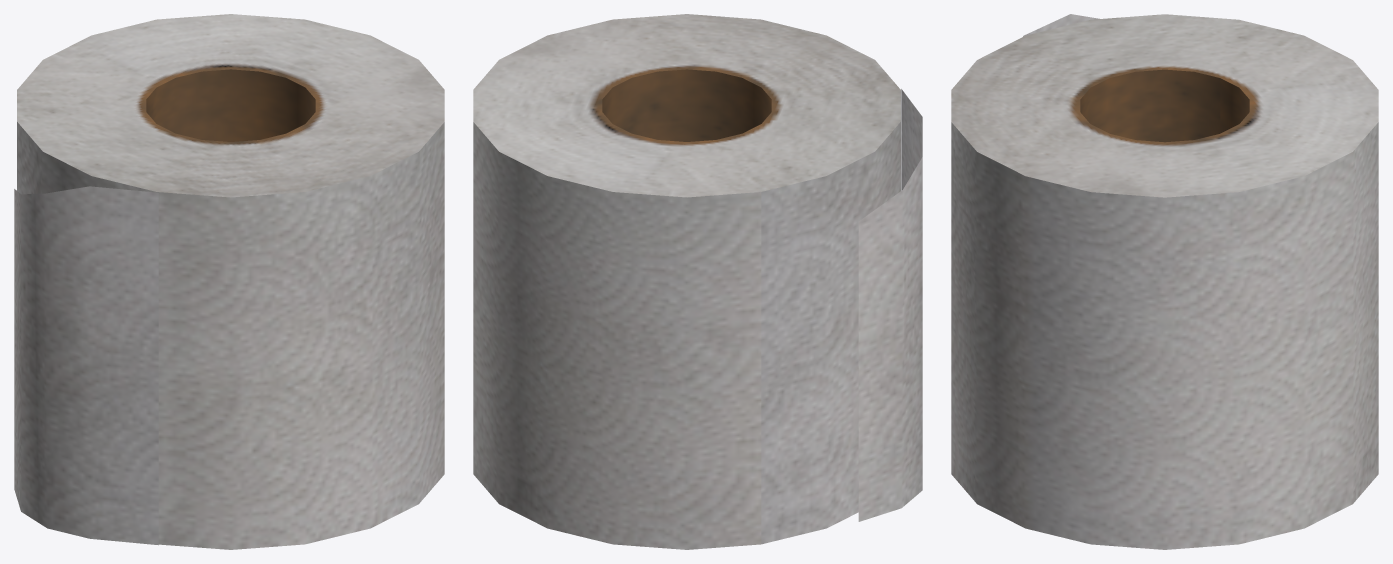
File: Toiletpaper.FBX
The picture shows the model from 3 angles, left to right: view 1: azimuth 30°, elevation 25°; view 2: azimuth 150°, elevation 25°; view 3: azimuth 270°, elevation 25°; orthographic projection.
Parts seen in each view (by area): view 1: Toiletpaper; view 2: Toiletpaper; view 3: Toiletpaper.
Part boxes in pixels (x1,y1,x2,y2): Toiletpaper: (14,14,444,549); Toiletpaper: (473,14,922,549); Toiletpaper: (951,14,1378,549).
Bounding box in the file's own units: 18.01 × 16.64 × 15.14.
